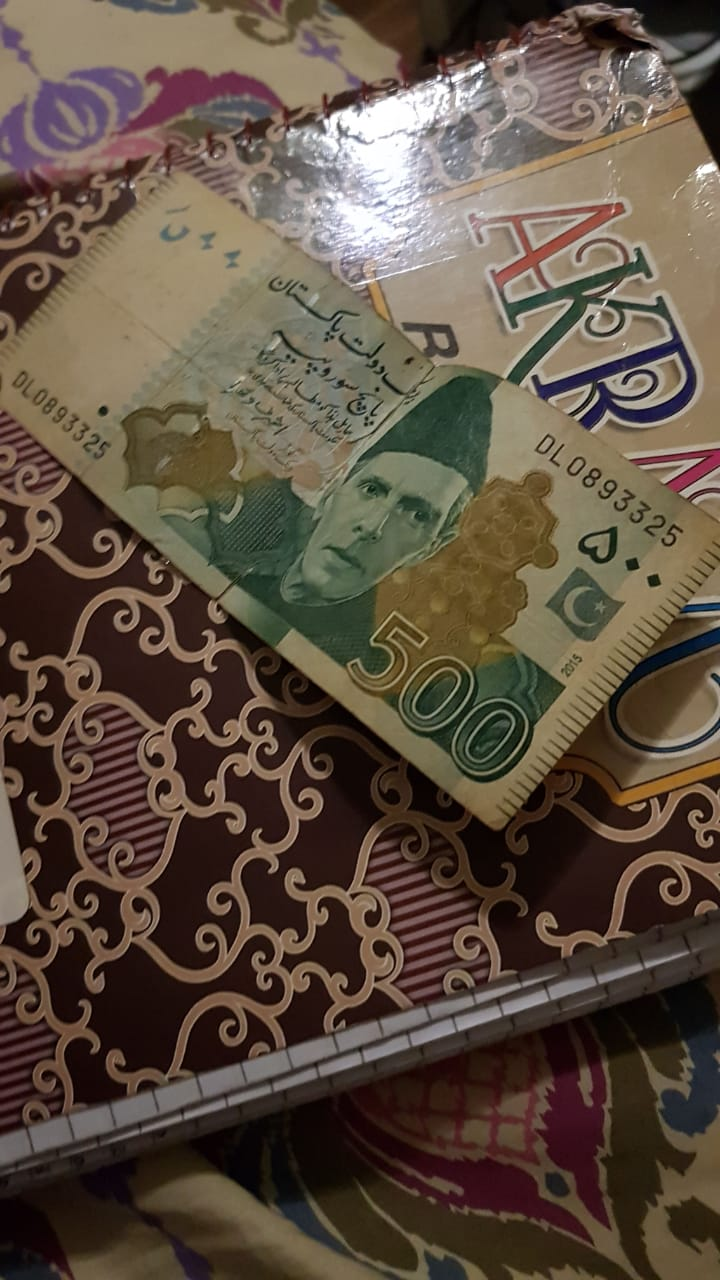500 rupee: (17, 166, 695, 880)
